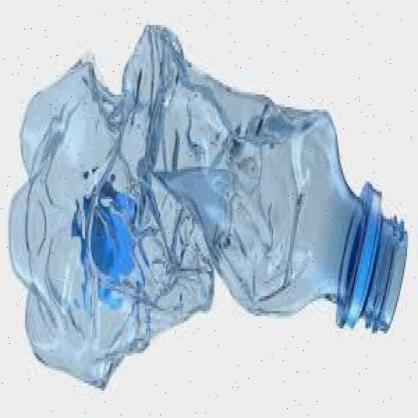bottle: (13, 24, 406, 395)
